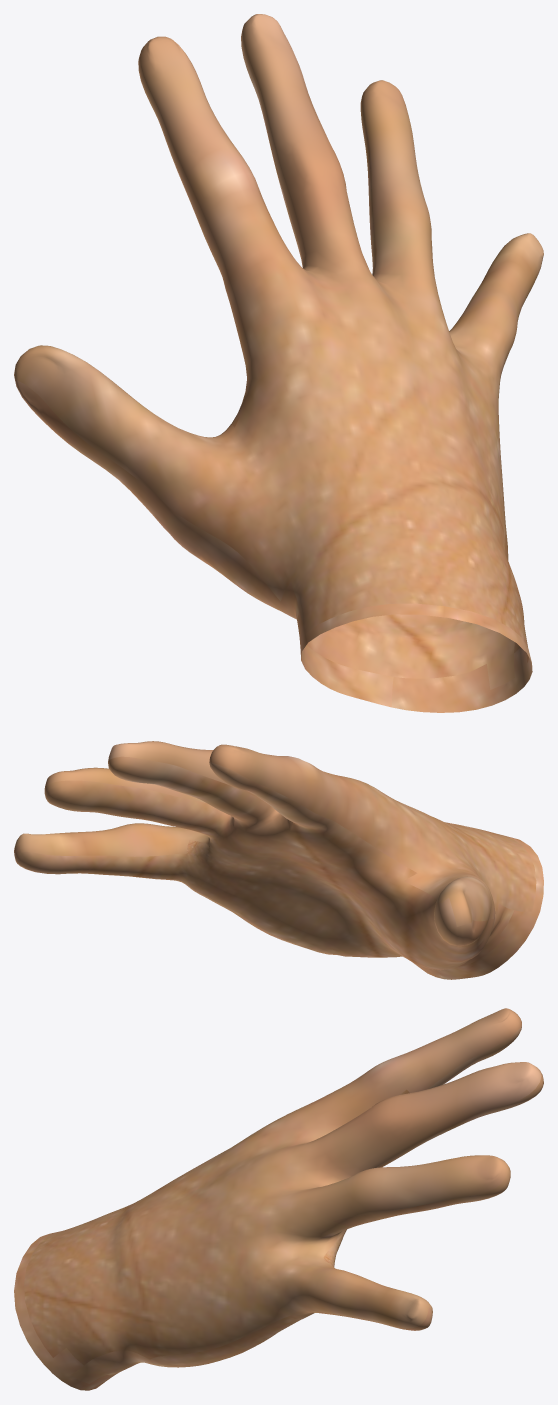
File: RightHand.obj
The picture shows the model from 3 angles, top to bottom: view 1: azimuth 30°, elevation 25°; view 2: azimuth 150°, elevation 25°; view 3: azimuth 270°, elevation 25°; orthographic projection. The views are drawn at different scales.
Visible parts, largest first — view 1: Hand1:Hand_Geo Hand1:Hand_polySurface1 Hand1:Hand_polySurface2 H; view 2: Hand1:Hand_Geo Hand1:Hand_polySurface1 Hand1:Hand_polySurface2 H; view 3: Hand1:Hand_Geo Hand1:Hand_polySurface1 Hand1:Hand_polySurface2 H.
Part boxes in pixels (x1,y1,x2,y2): Hand1:Hand_Geo Hand1:Hand_polySurface1 Hand1:Hand_polySurface2 H: [14, 14, 543, 712]; Hand1:Hand_Geo Hand1:Hand_polySurface1 Hand1:Hand_polySurface2 H: [14, 741, 543, 979]; Hand1:Hand_Geo Hand1:Hand_polySurface1 Hand1:Hand_polySurface2 H: [14, 1008, 543, 1390].
Bounding box in the file's own units: 0.6285 × 0.5301 × 0.6932.
Materials: 1 (1 with a texture image).
